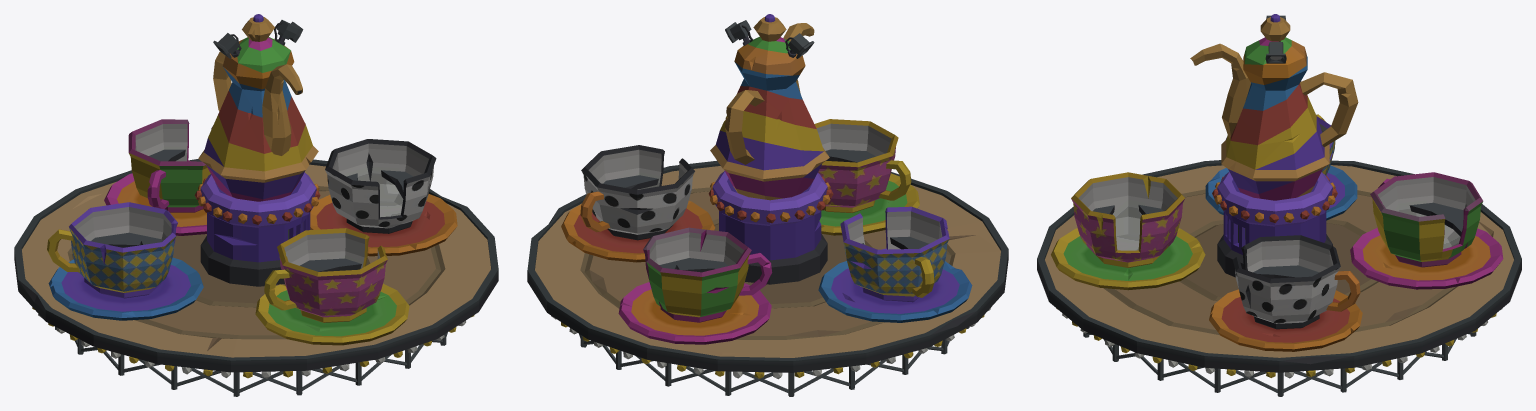
File: teacup-ride.glb
3 views of the same model, side by side, from view 1: azimuth 30°, elevation 25°; view 2: azimuth 150°, elevation 25°; view 3: azimuth 270°, elevation 25° (orthographic).
Visible parts, largest first — view 1: SM_Prop_Teacup_Ride_01; view 2: SM_Prop_Teacup_Ride_01; view 3: SM_Prop_Teacup_Ride_01.
Part boxes in pixels (left/top/right/bottom): SM_Prop_Teacup_Ride_01: left=14, top=14, right=498, bottom=396; SM_Prop_Teacup_Ride_01: left=527, top=14, right=1008, bottom=396; SM_Prop_Teacup_Ride_01: left=1037, top=14, right=1521, bottom=396.
Bounding box in the file's own units: 833 × 561 × 833.
Materials: 1 (1 with a texture image).
